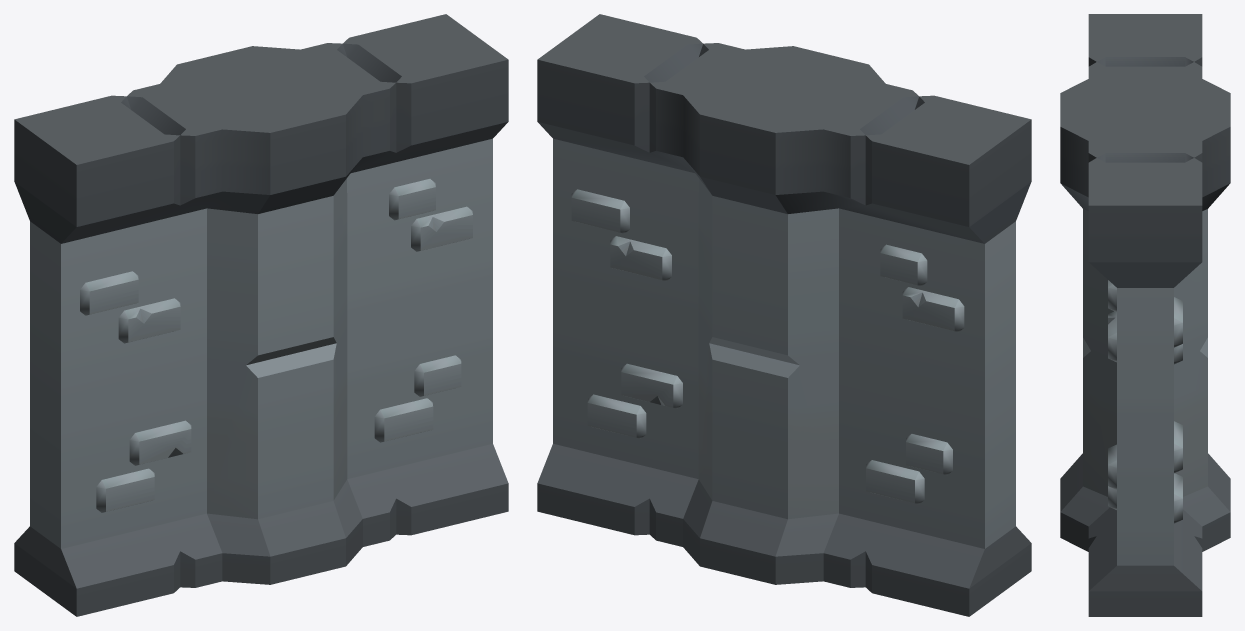
The model's file is wall_pillar.glb.
The picture shows the model from 3 angles, left to right: view 1: azimuth 30°, elevation 25°; view 2: azimuth 150°, elevation 25°; view 3: azimuth 270°, elevation 25°; orthographic projection. The views are drawn at different scales.
Visible parts, largest first — view 1: wall_pillar; view 2: wall_pillar; view 3: wall_pillar.
Part boxes in pixels (x1,y1,x2,y2): wall_pillar: [14, 14, 508, 616]; wall_pillar: [537, 14, 1031, 616]; wall_pillar: [1060, 14, 1230, 616].
Size of the model in its own units: 4 by 4 by 1.5.
Materials: 1 (1 with a texture image).
